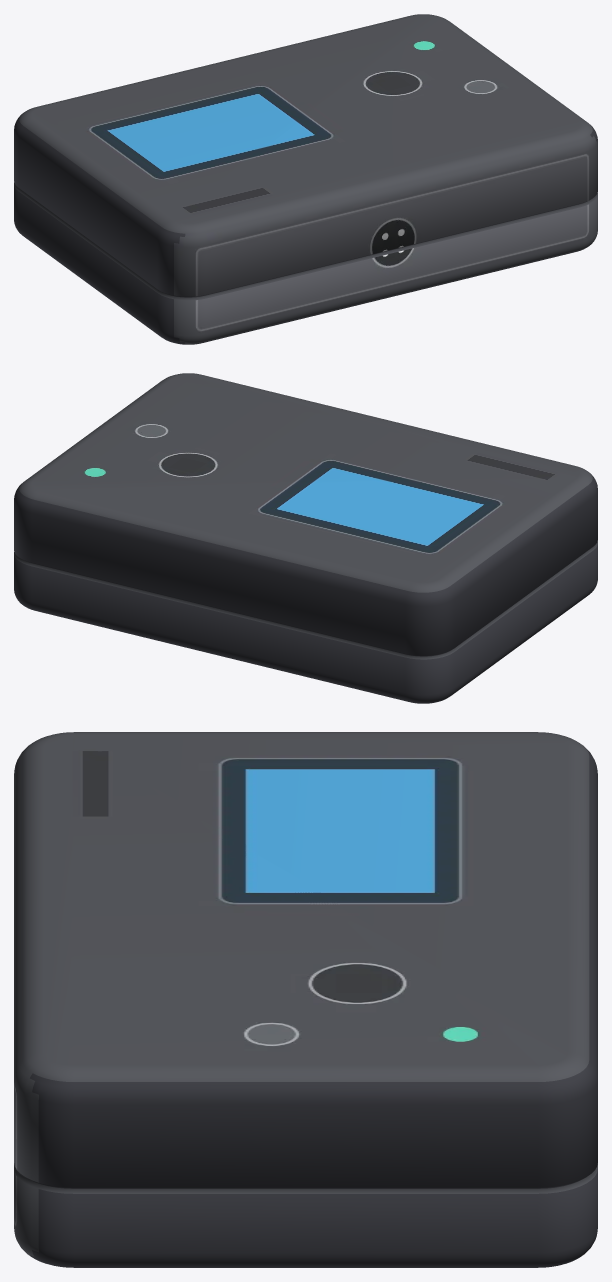
The model's file is shure-slxd1-bodypack.glb.
The picture shows the model from 3 angles, top to bottom: view 1: azimuth 30°, elevation 25°; view 2: azimuth 150°, elevation 25°; view 3: azimuth 270°, elevation 25°; orthographic projection. The views are drawn at different scales.
Visible parts, largest first — view 1: shure-slxd1-bodypack-body; view 2: shure-slxd1-bodypack-body; view 3: shure-slxd1-bodypack-body.
Part boxes in pixels (<box>): shure-slxd1-bodypack-body: <box>14,14,597,344</box>; shure-slxd1-bodypack-body: <box>14,373,597,703</box>; shure-slxd1-bodypack-body: <box>14,732,597,1267</box>.
Size of the model in its own units: 0.098 by 0.0255 by 0.068.
Materials: 1 (1 with a texture image).
